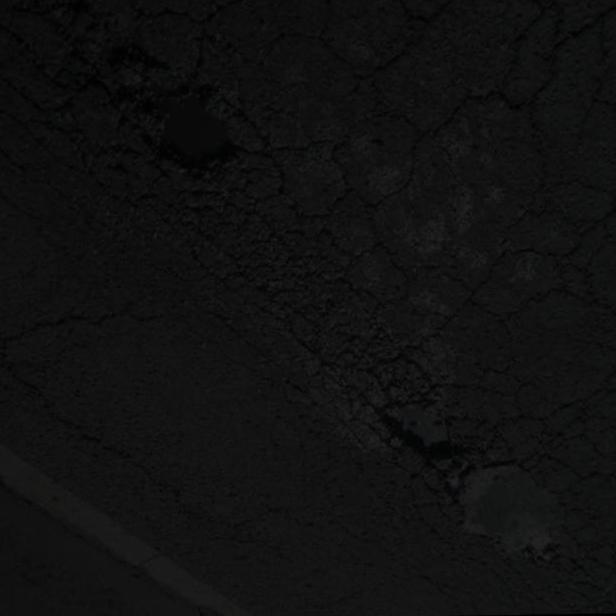pothole: (99, 44, 261, 198), (360, 361, 484, 478)
